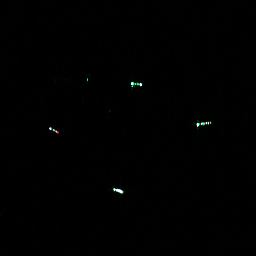ship: (194, 119, 214, 129), (110, 185, 126, 196), (47, 124, 61, 136), (128, 79, 144, 89)
